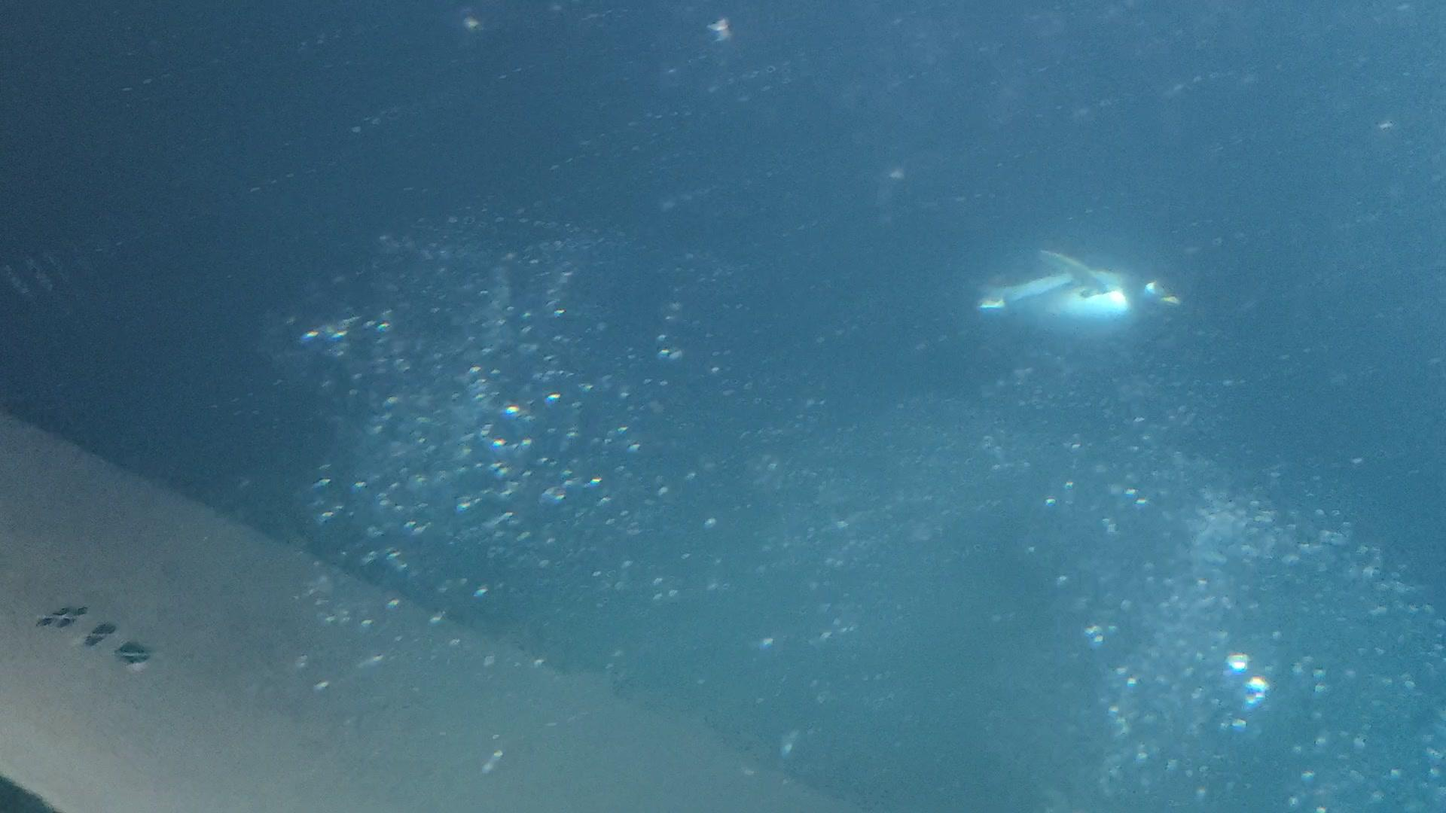apple: (975, 250, 1181, 340)
